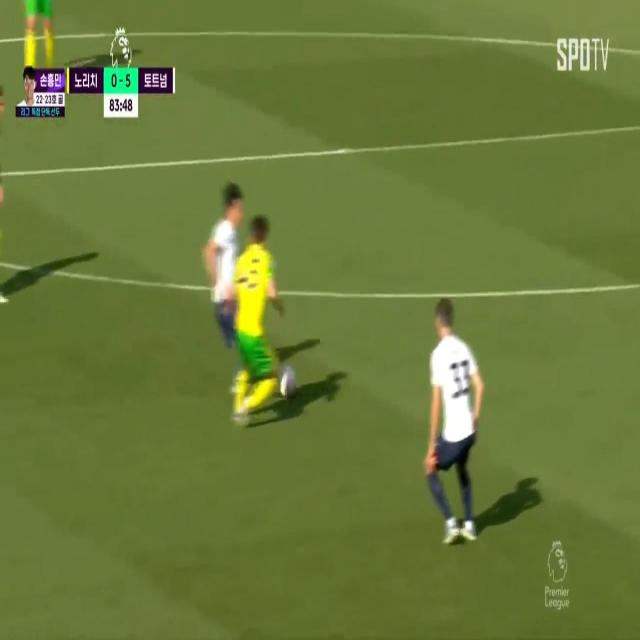ball: (278, 365, 300, 412)
player: (422, 294, 482, 542), (230, 205, 286, 407), (205, 174, 253, 351)
